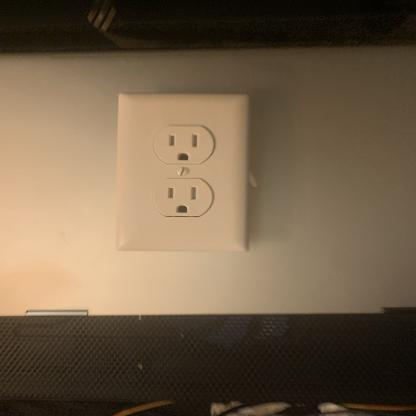OUTLET: (114, 91, 250, 254)
